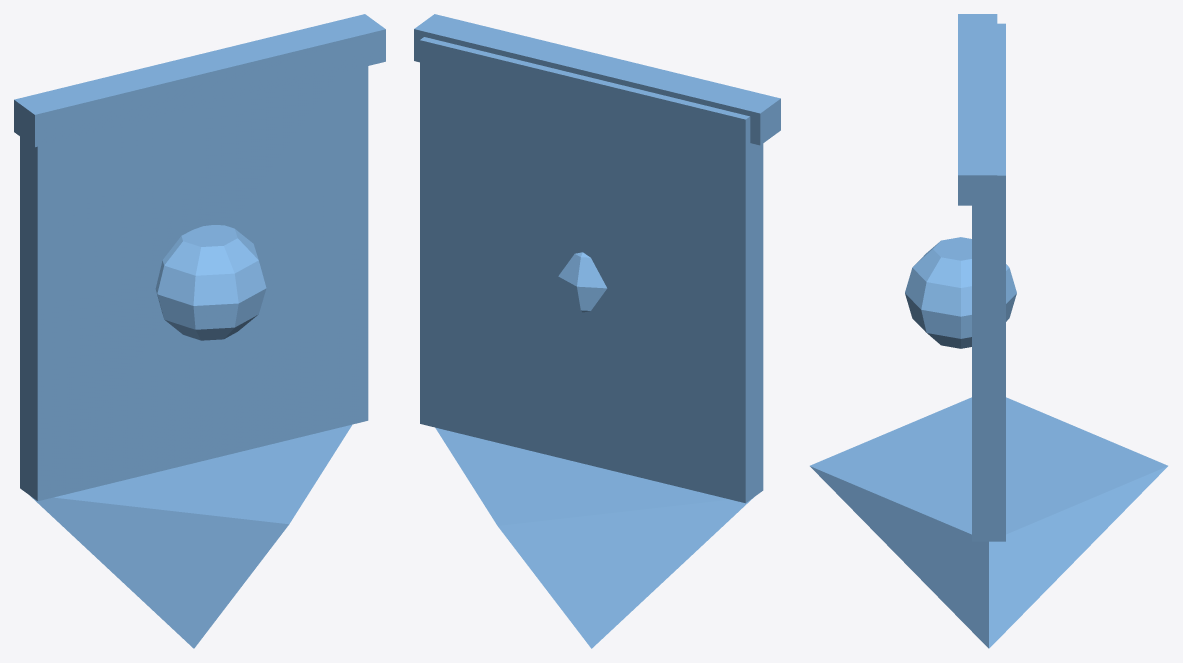
The model's file is armor_shield_heater.glb.
The picture shows the model from 3 angles, left to right: view 1: azimuth 30°, elevation 25°; view 2: azimuth 150°, elevation 25°; view 3: azimuth 270°, elevation 25°; orthographic projection. The views are drawn at different scales.
Parts seen in each view (by area): view 1: ArmorShieldHeater_Node; view 2: ArmorShieldHeater_Node; view 3: ArmorShieldHeater_Node.
Part boxes in pixels (x1,y1,x2,y2): ArmorShieldHeater_Node: [14, 14, 385, 648]; ArmorShieldHeater_Node: [414, 14, 780, 648]; ArmorShieldHeater_Node: [810, 14, 1167, 648].
Bounding box in the file's own units: 0.34 × 0.545 × 0.32.
